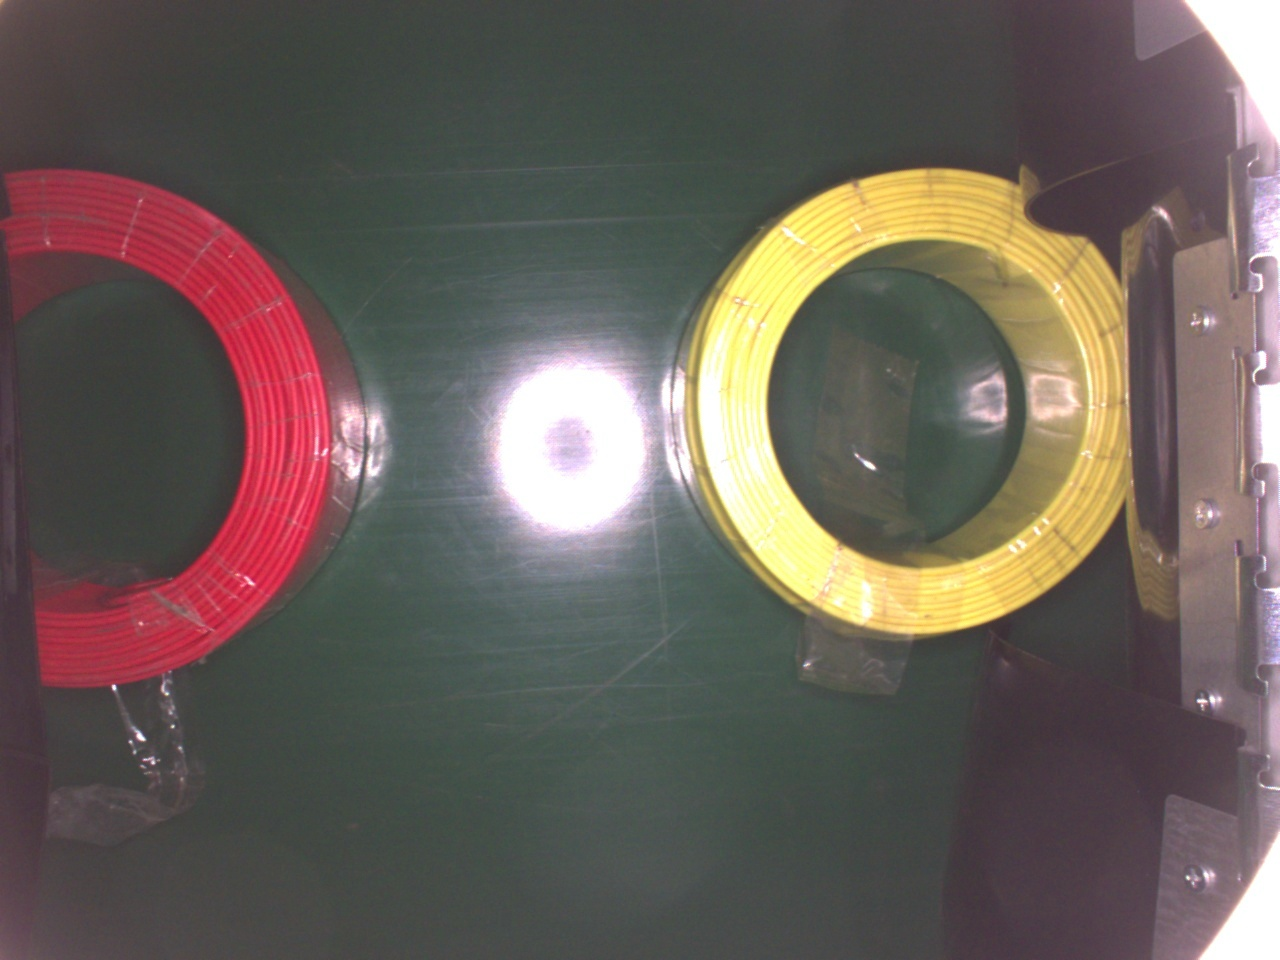red: (0, 163, 366, 689)
yellow: (671, 162, 1136, 644)
